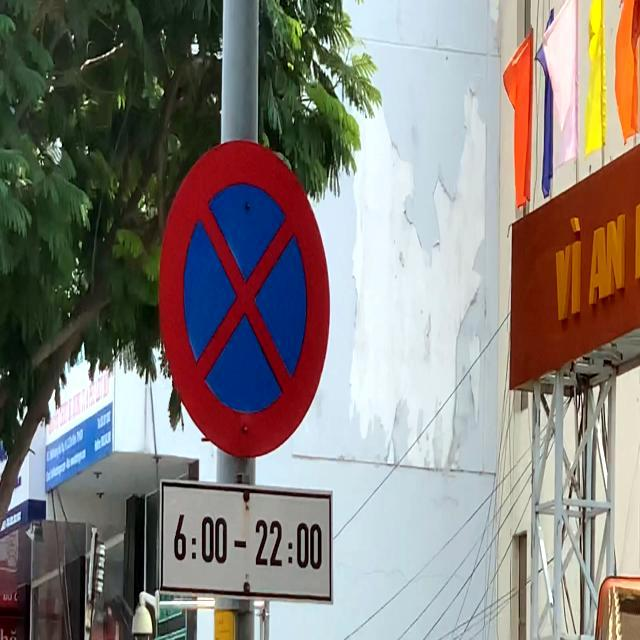Cam dung xe va do xe: (153, 130, 334, 470)
